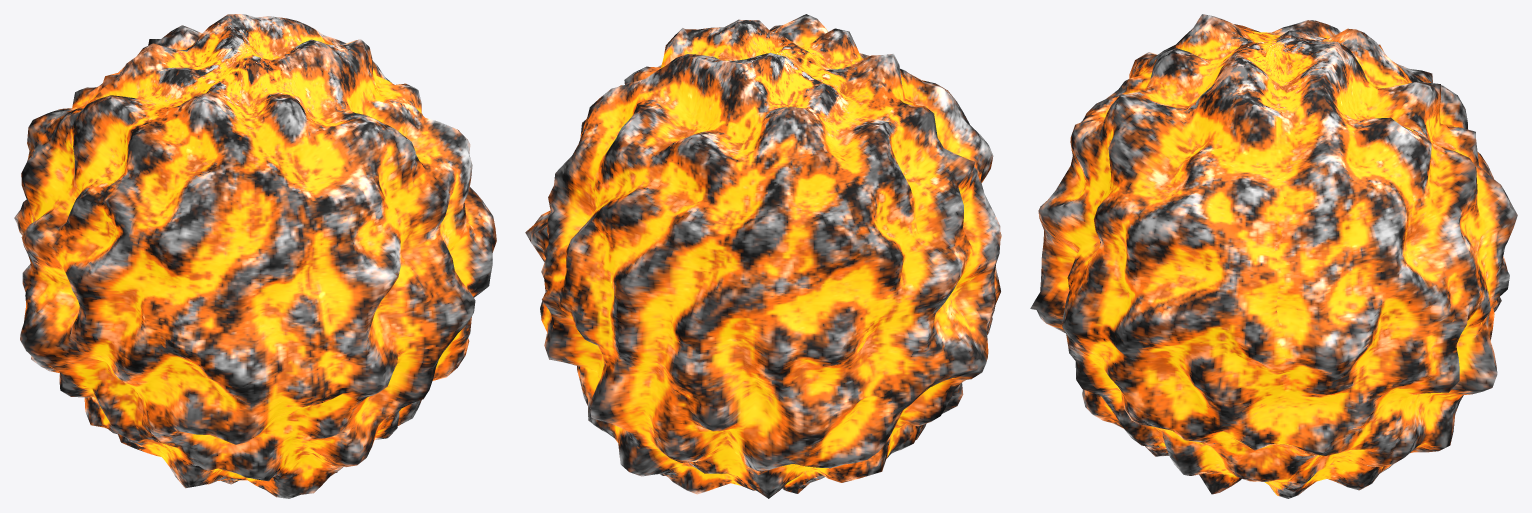
File: asteroid.glb
3 renders of one model, left to right at view 1: azimuth 30°, elevation 25°; view 2: azimuth 150°, elevation 25°; view 3: azimuth 270°, elevation 25°, orthographic.
Visible parts, largest first — view 1: Asteroid_1; view 2: Asteroid_1; view 3: Asteroid_1.
Part boxes in pixels (x1,y1,x2,y2): Asteroid_1: (14,14,496,498); Asteroid_1: (525,14,1001,498); Asteroid_1: (1030,14,1517,498).
Size of the model in its own units: 1 by 0.9543 by 0.9684.
Materials: 1 (1 with a texture image).
